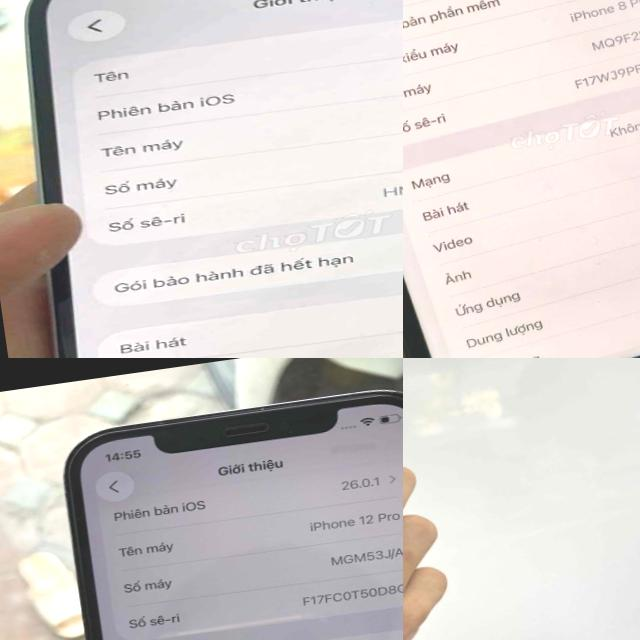gen_12_13: (47, 376, 403, 640), (403, 358, 484, 640)
gen_15: (0, 0, 403, 358)
gen_7_8: (403, 0, 640, 358)
